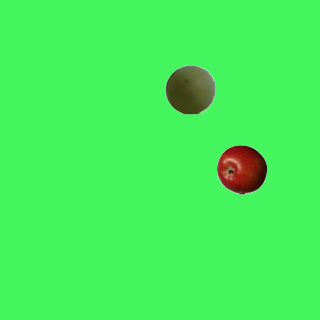Apple Braeburn: (216, 144, 266, 194)
Grape White 4: (164, 64, 214, 114)
